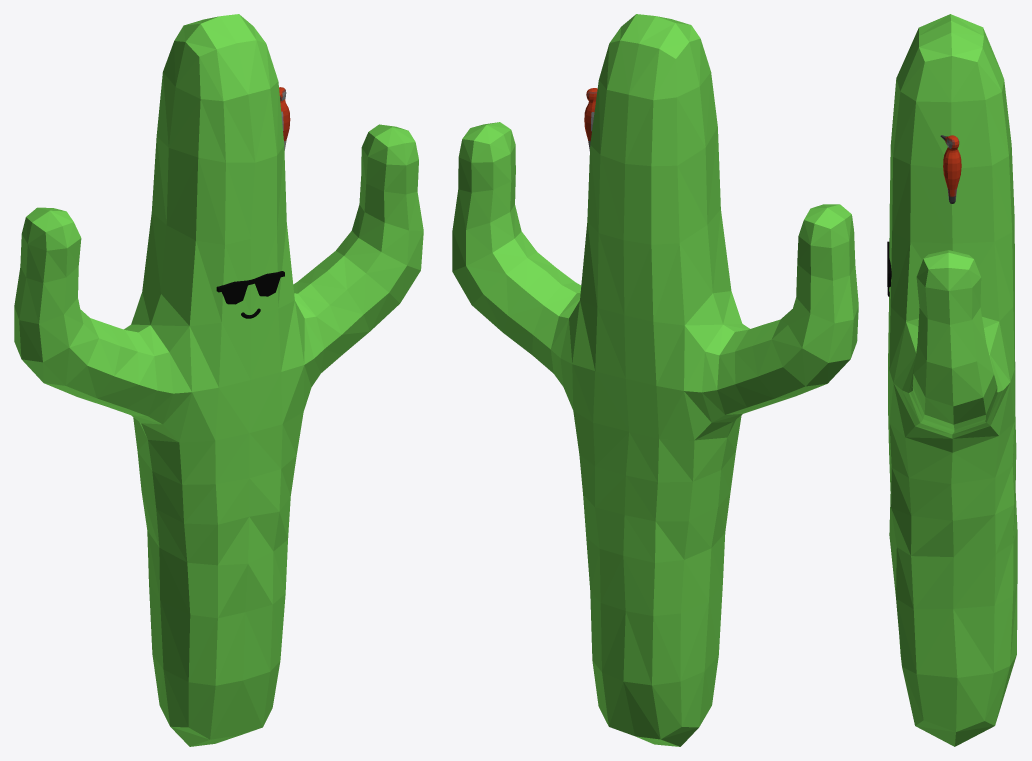
The model's file is CactusCharacter.fbx.
3 renders of one model, left to right at view 1: azimuth 30°, elevation 25°; view 2: azimuth 150°, elevation 25°; view 3: azimuth 270°, elevation 25°, orthographic.
Parts seen in each view (by area): view 1: Body, Sunglasses; view 2: Body; view 3: Body, Bird.
Boxes of the visible parts, x1=… form: Body: x1=14, y1=14, x2=423, y2=746; Sunglasses: x1=216, y1=271, x2=284, y2=304; Body: x1=452, y1=14, x2=858, y2=746; Body: x1=888, y1=14, x2=1017, y2=746; Bird: x1=940, y1=135, x2=961, y2=203.
Size of the model in its own units: 104 by 182 by 29.79.
